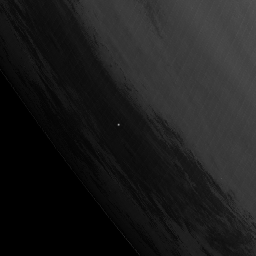Target: (115, 120, 122, 128)
